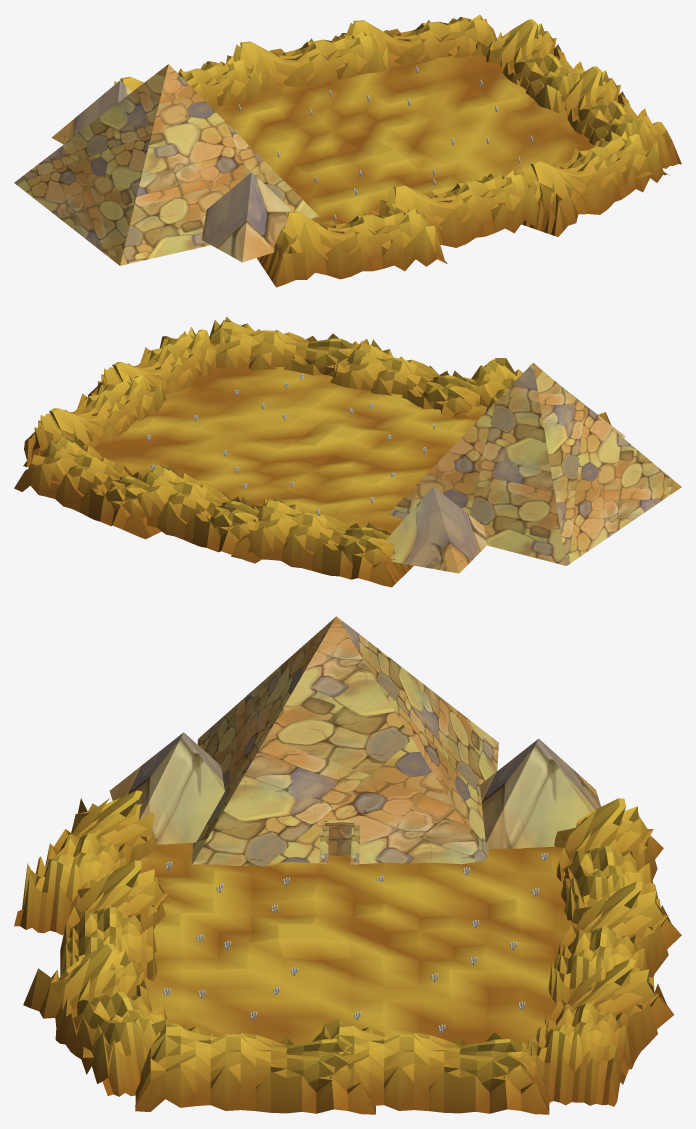
The model's file is ПОЛЕ .fbx.
The picture shows the model from 3 angles, top to bottom: view 1: azimuth 30°, elevation 25°; view 2: azimuth 150°, elevation 25°; view 3: azimuth 270°, elevation 25°; orthographic projection. The views are drawn at different scales.
Visible parts, largest first — view 1: Plane.007, Plane.003, Cone, Cone.002, Cone.001; view 2: Plane.007, Plane.003, Cone, Cone.001, Cylinder.018; view 3: Plane.007, Plane.003, Cone, Cone.001, Cone.002, Cylinder.018.
Boxes of the visible parts, x1=… form: Plane.007: x1=114, y1=14, x2=681, y2=287; Plane.003: x1=212, y1=55, x2=652, y2=224; Cone: x1=14, y1=64, x2=318, y2=265; Cone.002: x1=201, y1=172, x2=292, y2=262; Cone.001: x1=51, y1=80, x2=131, y2=144; Plane.007: x1=14, y1=316, x2=610, y2=587; Plane.003: x1=45, y1=367, x2=488, y2=560; Cone: x1=388, y1=363, x2=681, y2=565; Cone.001: x1=386, y1=486, x2=487, y2=573; Cylinder.018: x1=146, y1=374, x2=434, y2=526; Plane.007: x1=14, y1=790, x2=681, y2=1114; Plane.003: x1=83, y1=843, x2=621, y2=1059; Cone: x1=192, y1=616, x2=498, y2=866; Cone.001: x1=480, y1=738, x2=600, y2=848; Cone.002: x1=109, y1=732, x2=224, y2=844; Cylinder.018: x1=163, y1=853, x2=548, y2=1033.
Size of the model in its own units: 65441 by 17893 by 50696.
